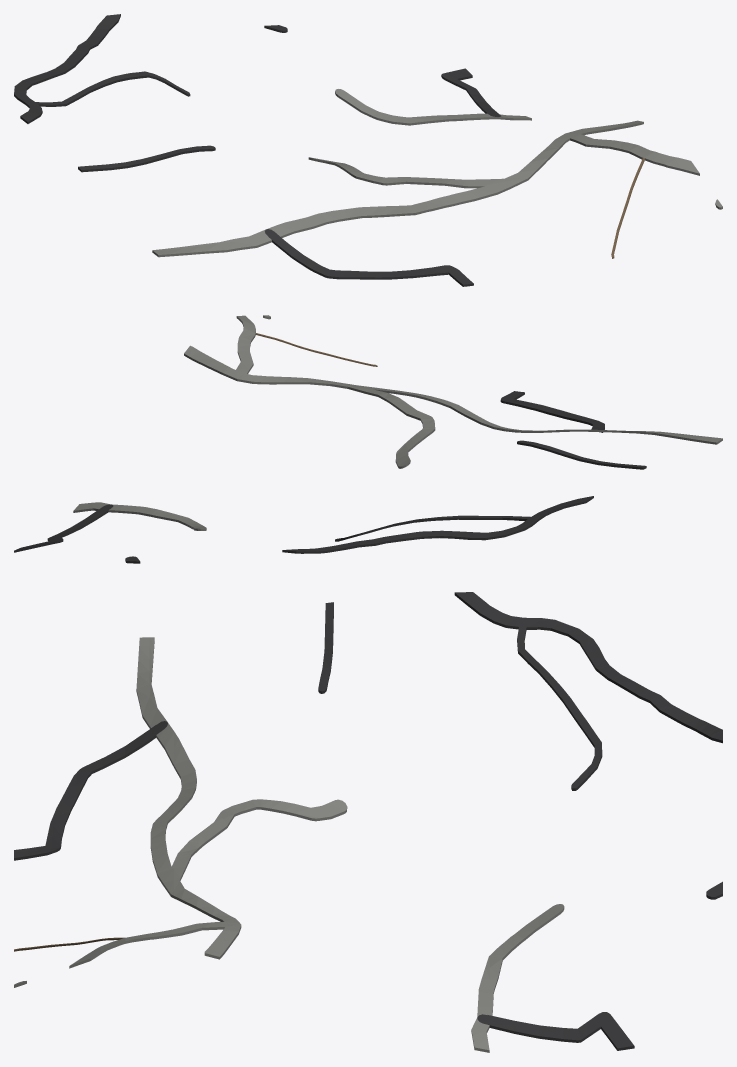
The picture shows the model from 3 angles, top to bottom: view 1: azimuth 30°, elevation 25°; view 2: azimuth 150°, elevation 25°; view 3: azimuth 270°, elevation 25°; orthographic projection. The views are drawn at different scales.
Size of the model in its own units: 293 by 72.33 by 292.
